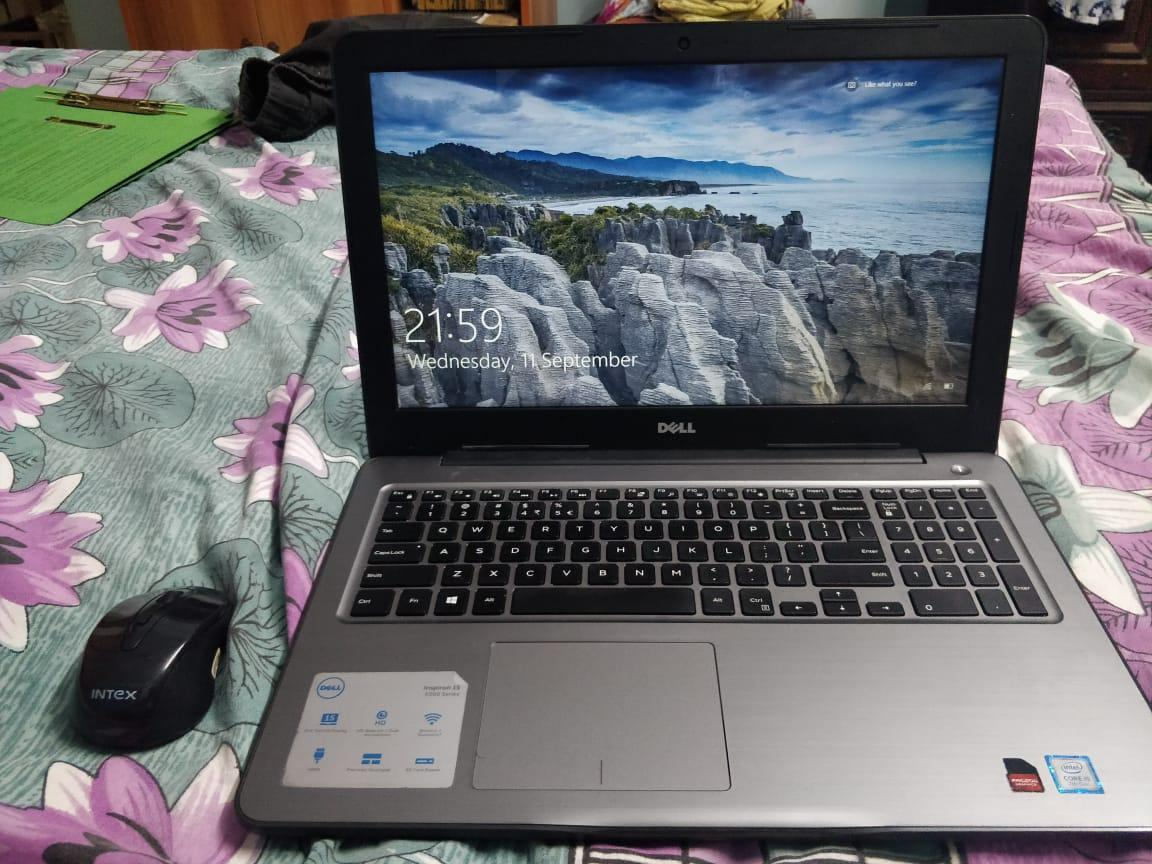laptop: (227, 4, 1152, 853)
mouse: (63, 564, 247, 762)
